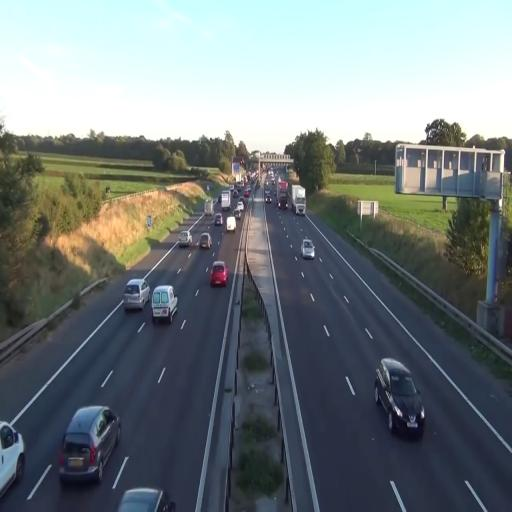vehicle: (58, 404, 122, 486), (374, 357, 426, 438), (0, 421, 26, 498), (118, 486, 168, 512), (152, 285, 178, 324), (123, 278, 147, 312), (209, 261, 228, 287), (277, 179, 291, 210), (292, 186, 306, 214), (195, 230, 212, 250), (301, 238, 315, 259), (226, 215, 236, 233)
